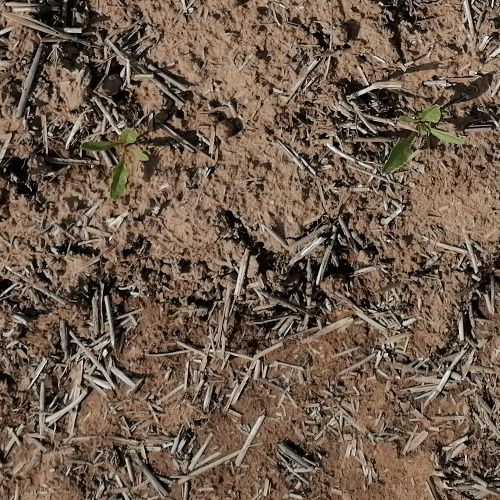beet: (384, 104, 462, 175), (80, 128, 148, 199)
